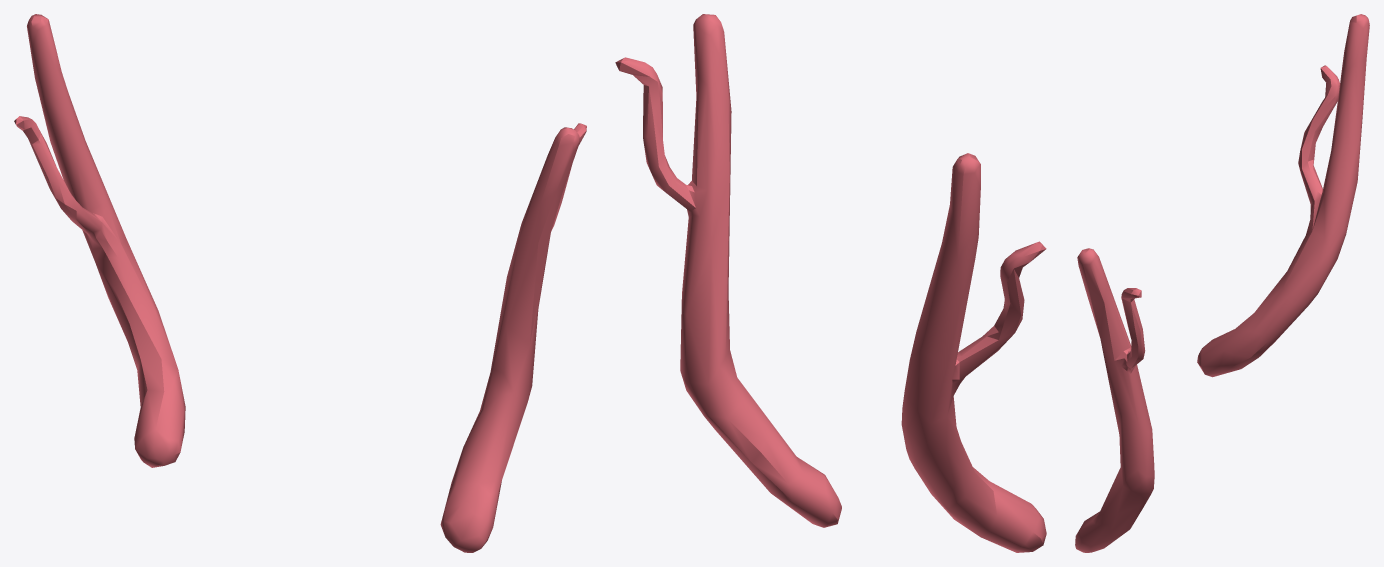
The model's file is fma71669.glb.
3 renders of one model, left to right at view 1: azimuth 30°, elevation 25°; view 2: azimuth 150°, elevation 25°; view 3: azimuth 270°, elevation 25°, orthographic. The views are drawn at different scales.
Parts seen in each view (by area): view 1: FMA71669; view 2: FMA71669; view 3: FMA71669.
Boxes of the visible parts, x1,y1,x2,y2 form: FMA71669: [14, 14, 586, 552]; FMA71669: [615, 14, 1046, 552]; FMA71669: [1075, 14, 1369, 552].
Size of the model in its own units: 0.0207 by 0.0208 by 0.0132.
